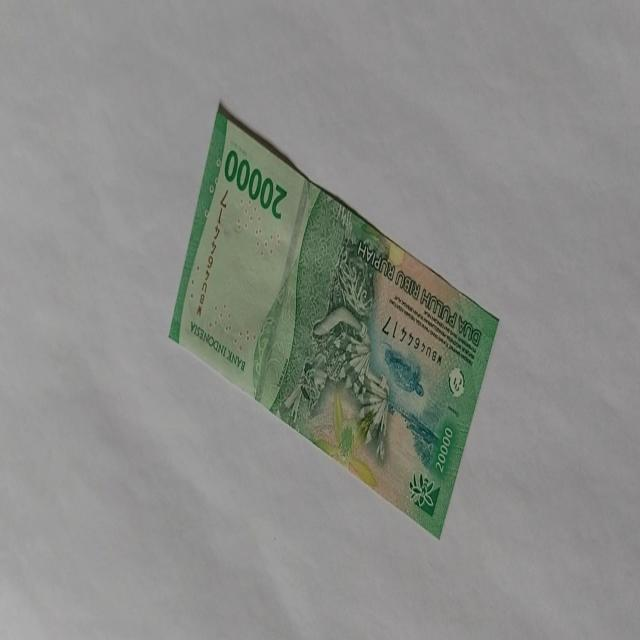dua puluh ribu rupiah: (168, 100, 500, 540)
